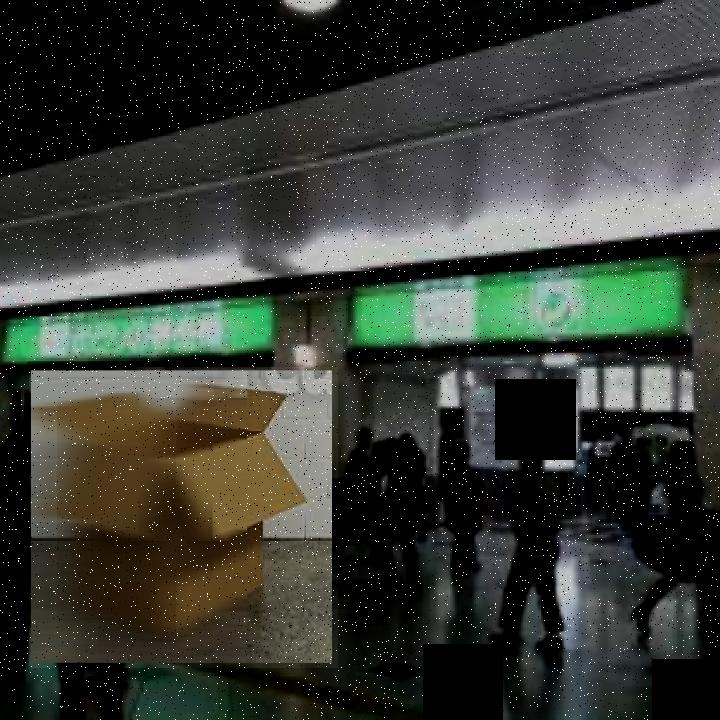box: (29, 367, 340, 668)
